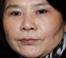without_mask: (1, 1, 66, 58)
